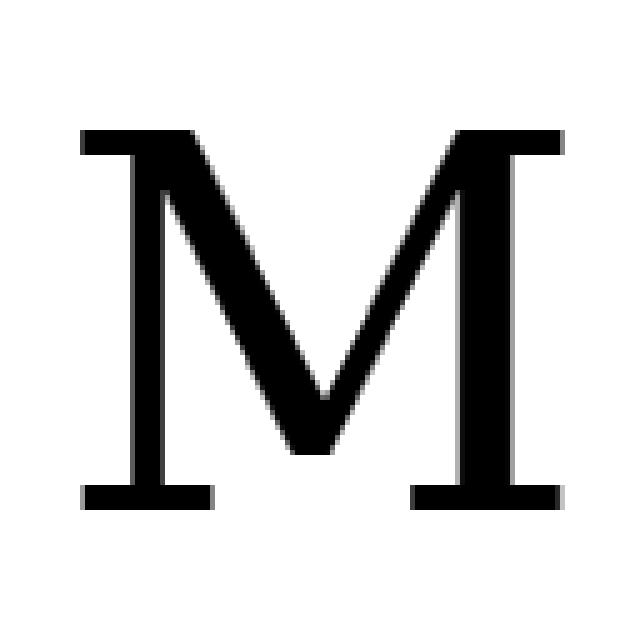M: (68, 123, 565, 525)
